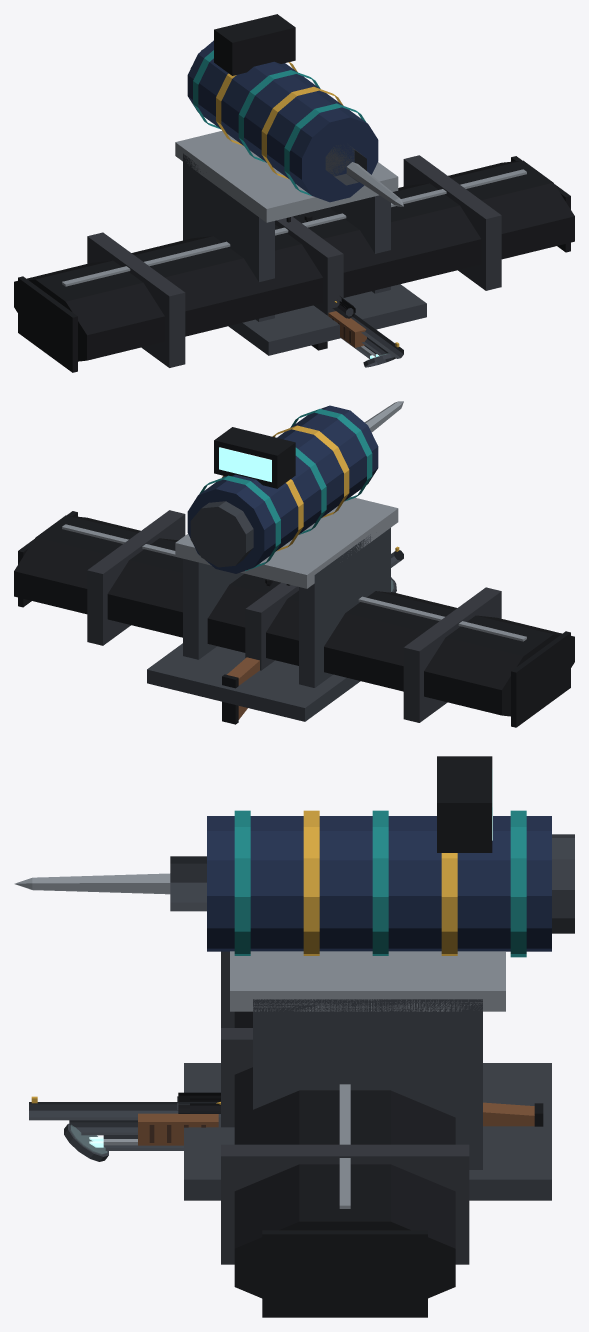
File: gear.glb
3 views of the same model, one above another, from view 1: azimuth 30°, elevation 25°; view 2: azimuth 150°, elevation 25°; view 3: azimuth 270°, elevation 25° (orthographic). The views are drawn at different scales.
Parts seen in each view (by area): view 1: body_bag, thermal_drill, thermal_drill_bit, shotgun_pump; view 2: body_bag, thermal_drill, shotgun_pump, thermal_drill_bit; view 3: thermal_drill, body_bag, shotgun_pump, thermal_drill_bit, mirror_kit, stun_baton.
Part boxes in pixels (left/top/right/bottom): body_bag: left=14, top=155, right=574, bottom=372; thermal_drill: left=175, top=14, right=426, bottom=355; thermal_drill_bit: left=325, top=145, right=403, bottom=206; shotgun_pump: left=328, top=302, right=403, bottom=358; body_bag: left=14, top=510, right=574, bottom=727; thermal_drill: left=147, top=405, right=398, bottom=721; shotgun_pump: left=222, top=546, right=403, bottom=724; thermal_drill_bit: left=365, top=401, right=403, bottom=432; thermal_drill: left=184, top=756, right=574, bottom=1200; body_bag: left=221, top=951, right=469, bottom=1317; shotgun_pump: left=29, top=1096, right=543, bottom=1145; thermal_drill_bit: left=14, top=856, right=206, bottom=911; mirror_kit: left=64, top=1123, right=137, bottom=1161; stun_baton: left=89, top=1135, right=183, bottom=1150.
Bounding box in the file's own units: 1.89 × 0.9825 × 1.22.
